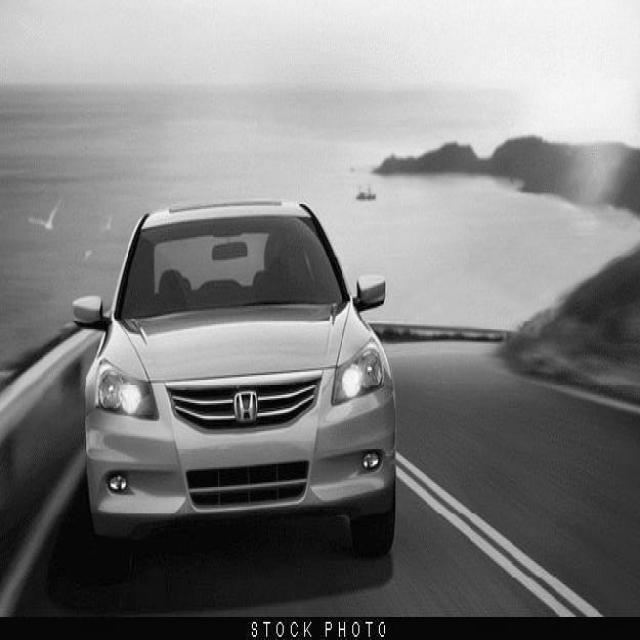car: (72, 197, 396, 558)
